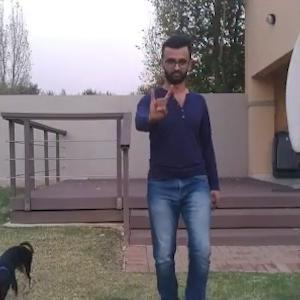takeoff-hand: (137, 77, 177, 125)
